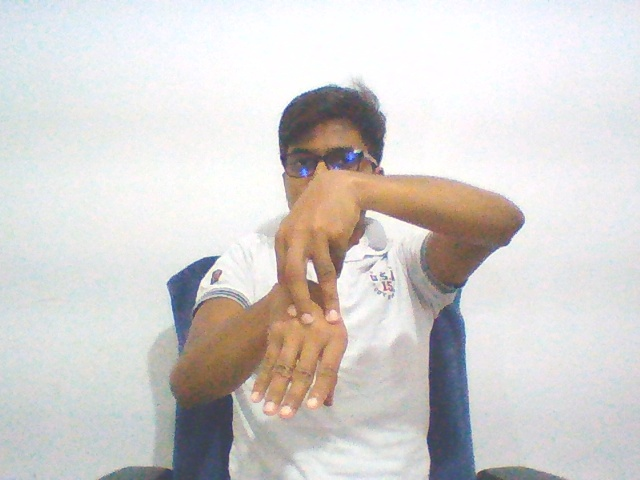papaya: (245, 165, 366, 428)
